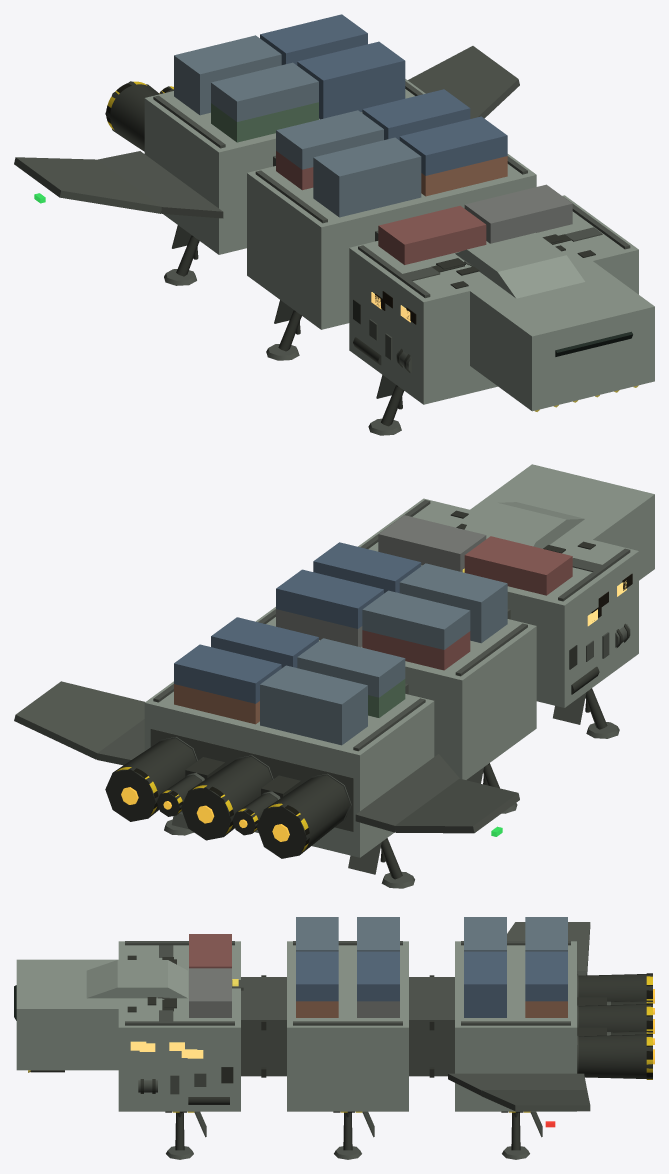
File: freighter-l.glb
The picture shows the model from 3 angles, top to bottom: view 1: azimuth 30°, elevation 25°; view 2: azimuth 150°, elevation 25°; view 3: azimuth 270°, elevation 25°; orthographic projection. The views are drawn at different scales.
Visible parts, largest first — view 1: hullNose, hullMain, hullSection1, hullSection2, canopyFairing, cargoContainerUpper1_1L, wingOuterLeft, cargoContainer0_0L, cargoContainerUpper2_1L, wingOuterRight, cargoContainerUpper1_1R, cargoContainerUpper2_1R (+13 smaller); view 2: hullSection2, engineHousing (×5), hullMain, hullSection1, hullNose, wingOuterRight, cargoContainerUpper1_0L, cargoContainerUpper2_0L, cargoContainer0_0L, wingOuterLeft, cargoContainerUpper1_0R, cargoContainerUpper2_0R (+15 smaller); view 3: hullSection1, hullMain, hullNose, hullSection2, engineHousing (×3), gantry0, gantry1, canopyFairing, wingInnerRight, cargoContainerUpper1_0R, cargoContainerUpper1_1R, cargoContainerUpper2_0R (+16 smaller).
Boxes of the visible parts, left/top/right/bottom form: hullNose: left=470, top=260, right=654, bottom=411; hullMain: left=349, top=195, right=638, bottom=404; hullSection1: left=247, top=154, right=536, bottom=329; hullSection2: left=144, top=79, right=425, bottom=254; canopyFairing: left=455, top=232, right=584, bottom=298; cargoContainerUpper1_1L: left=313, top=137, right=421, bottom=196; wingOuterLeft: left=14, top=157, right=161, bottom=213; cargoContainer0_0L: left=378, top=205, right=486, bottom=264; cargoContainerUpper2_1L: left=211, top=62, right=318, bottom=121; wingOuterRight: left=408, top=46, right=519, bottom=118; cargoContainerUpper1_1R: left=399, top=116, right=507, bottom=175; cargoContainerUpper2_1R: left=297, top=41, right=405, bottom=100; hullSection2: left=144, top=681, right=434, bottom=857; engineHousing (×5): left=105, top=738, right=349, bottom=858; hullMain: left=358, top=498, right=638, bottom=707; hullSection1: left=256, top=607, right=536, bottom=779; hullNose: left=466, top=464, right=654, bottom=580; wingOuterRight: left=14, top=681, right=144, bottom=759; cargoContainerUpper1_0L: left=362, top=590, right=470, bottom=649; cargoContainerUpper2_0L: left=260, top=665, right=367, bottom=724; cargoContainer0_0L: left=464, top=536, right=572, bottom=595; wingOuterLeft: left=394, top=778, right=519, bottom=833; cargoContainerUpper1_0R: left=276, top=569, right=383, bottom=628; cargoContainerUpper2_0R: left=174, top=644, right=281, bottom=703; hullSection1: left=287, top=941, right=408, bottom=1111; hullMain: left=118, top=941, right=240, bottom=1111; hullNose: left=16, top=959, right=127, bottom=1070; hullSection2: left=455, top=941, right=576, bottom=1111; engineHousing (×3): left=578, top=974, right=652, bottom=1079; gantry0: left=241, top=977, right=286, bottom=1076; gantry1: left=409, top=977, right=454, bottom=1076; canopyFairing: left=86, top=960, right=187, bottom=998; wingInnerRight: left=448, top=1073, right=586, bottom=1095; cargoContainerUpper1_0R: left=357, top=951, right=399, bottom=1001; cargoContainerUpper1_1R: left=296, top=951, right=338, bottom=1001; cargoContainerUpper2_0R: left=525, top=951, right=567, bottom=1001.
Size of the model in its own units: 7.08 by 2.84 by 10.35.
